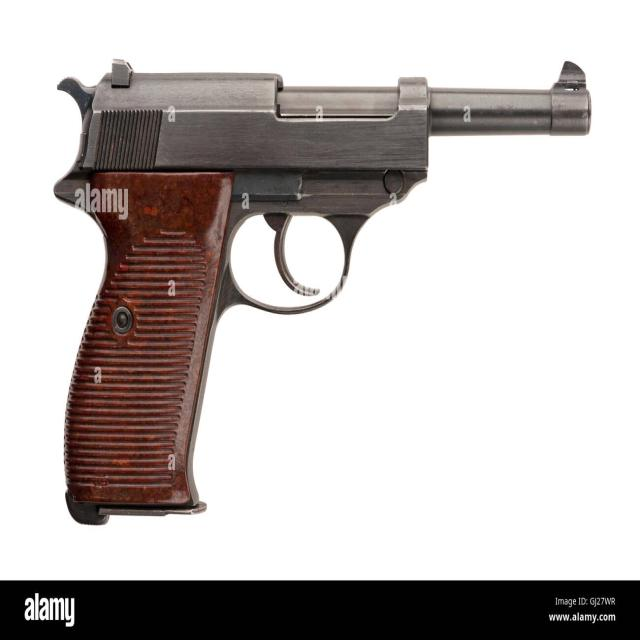HandGun: (52, 59, 592, 528)
